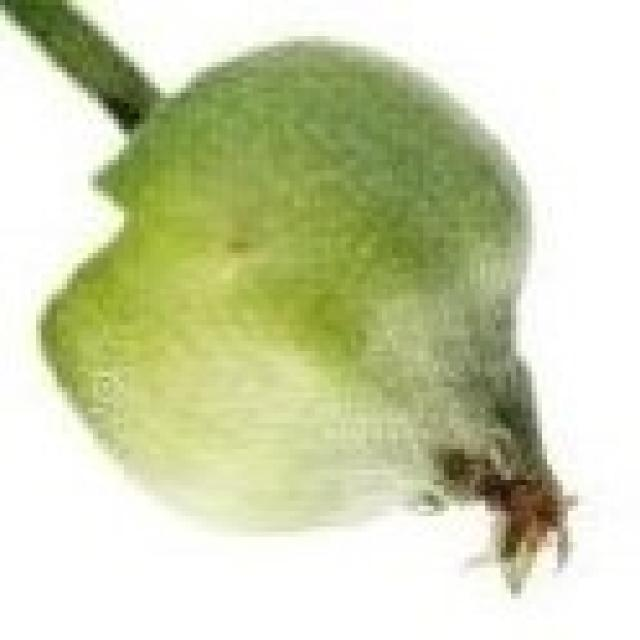20-_ripeness: (48, 36, 594, 600)
